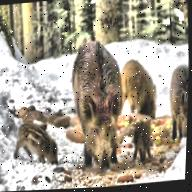boar: (52, 29, 117, 189), (113, 53, 165, 113), (8, 113, 61, 169), (160, 50, 190, 127)
